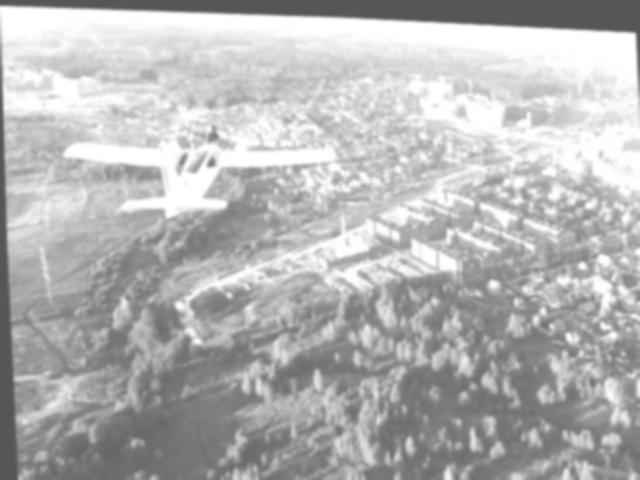hedef: (60, 107, 343, 239)
